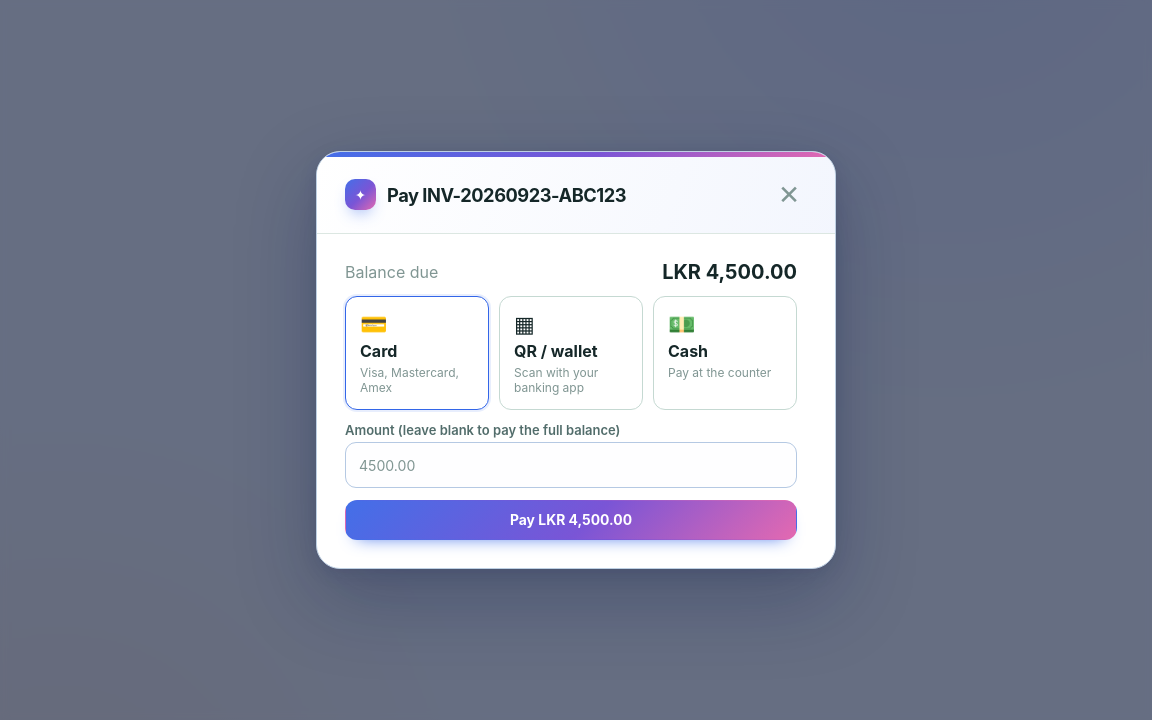
Test case: <PaymentFlowModal /> › will not start a payment larger than the balance
In the number field labelled "Amount (leave blank to pay the full balance)": coordinates (571, 465) top-left (345, 442), bottom-right (797, 488), type "9000"
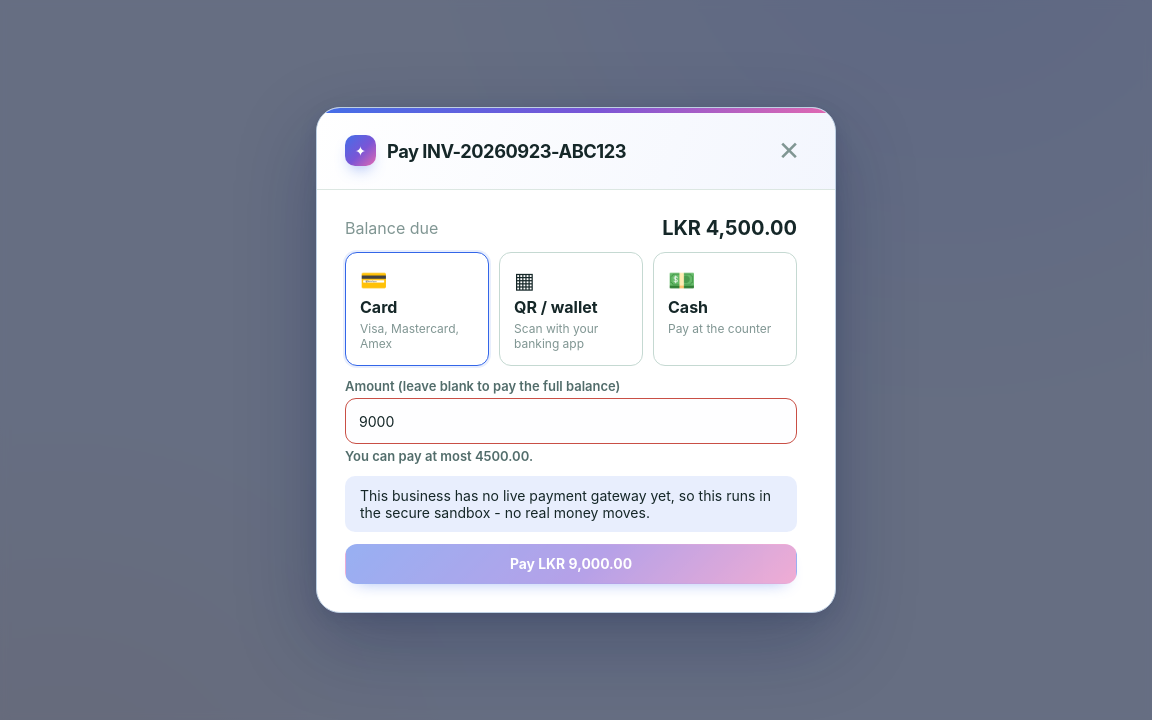
Expected: the text "You can pay at most 4500.00." is shown, top-left (345, 448), bottom-right (533, 464)
Expected: the button "Pay LKR 9,000.00" is disabled, top-left (345, 544), bottom-right (797, 584)
